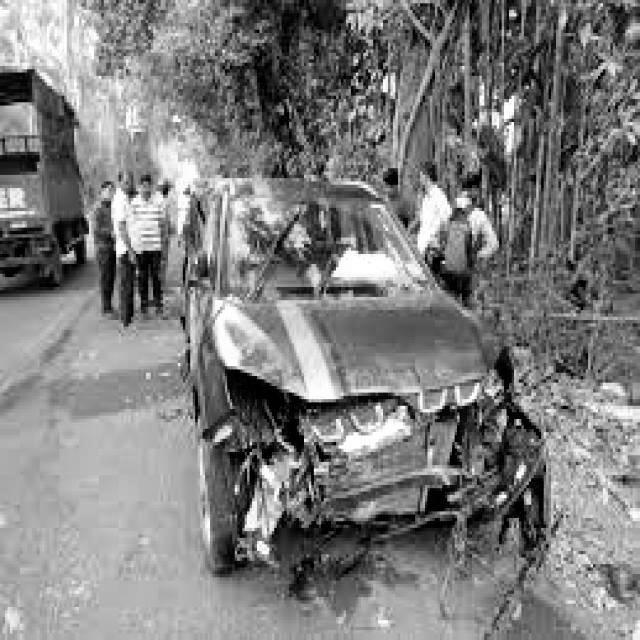front-bumper-dent: (179, 370, 596, 561)
